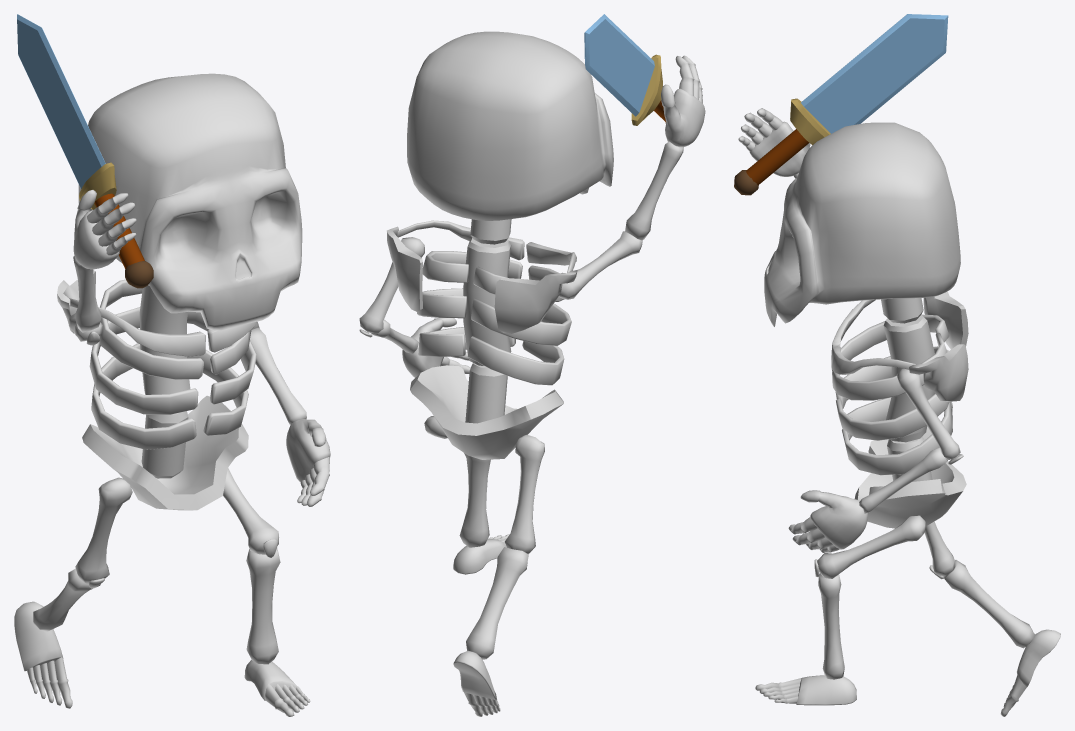
File: PhyBones.FBX
3 views of the same model, side by side, from view 1: azimuth 30°, elevation 25°; view 2: azimuth 150°, elevation 25°; view 3: azimuth 270°, elevation 25° (orthographic). The views are drawn at different scales.
Visible parts, largest first — view 1: PhyBone25, Skt_Dagger002, PhyBone11, PhyBone00, PhyBone08, PhyBone16, PhyBone12, PhyBone22, PhyBone15, PhyBone10, PhyBone23, PhyBone03 (+14 smaller); view 2: PhyBone25, PhyBone11, Skt_Dagger002, PhyBone18, PhyBone23, PhyBone15, PhyBone00, PhyBone07, PhyBone10, PhyBone22, PhyBone26, PhyBone08 (+15 smaller); view 3: PhyBone25, Skt_Dagger002, PhyBone11, PhyBone12, PhyBone23, PhyBone00, PhyBone17, PhyBone07, PhyBone27, PhyBone09, PhyBone08, PhyBone21 (+14 smaller).
Boxes of the visible parts, <box> form: PhyBone25: <box>78,73,302,330</box>; Skt_Dagger002: <box>17,14,153,288</box>; PhyBone11: <box>82,395,248,510</box>; PhyBone00: <box>73,190,136,269</box>; PhyBone08: <box>246,539,280,664</box>; PhyBone16: <box>99,279,203,379</box>; PhyBone12: <box>286,419,330,506</box>; PhyBone22: <box>89,307,198,414</box>; PhyBone15: <box>91,343,196,449</box>; PhyBone10: <box>75,477,132,583</box>; PhyBone23: <box>139,284,190,394</box>; PhyBone03: <box>14,601,63,671</box>; PhyBone25: <box>407,31,613,220</box>; PhyBone11: <box>410,365,563,459</box>; Skt_Dagger002: <box>584,14,666,125</box>; PhyBone18: <box>494,270,577,333</box>; PhyBone23: <box>463,238,511,365</box>; PhyBone15: <box>467,336,564,385</box>; PhyBone00: <box>661,55,705,146</box>; PhyBone07: <box>466,547,528,659</box>; PhyBone10: <box>505,435,544,553</box>; PhyBone22: <box>471,298,571,345</box>; PhyBone26: <box>465,363,507,423</box>; PhyBone08: <box>459,453,490,547</box>; PhyBone25: <box>764,122,960,326</box>; Skt_Dagger002: <box>734,14,948,195</box>; PhyBone11: <box>854,426,966,528</box>; PhyBone12: <box>788,490,867,552</box>; PhyBone23: <box>883,314,934,442</box>; PhyBone00: <box>738,108,810,176</box>; PhyBone17: <box>842,401,952,475</box>; PhyBone07: <box>929,560,1035,648</box>; PhyBone27: <box>909,344,968,401</box>; PhyBone09: <box>817,515,925,578</box>; PhyBone08: <box>814,559,844,679</box>; PhyBone21: <box>836,393,949,440</box>.
Bounding box in the file's own units: 120 × 304 × 135.
Materials: 1 (1 with a texture image).
